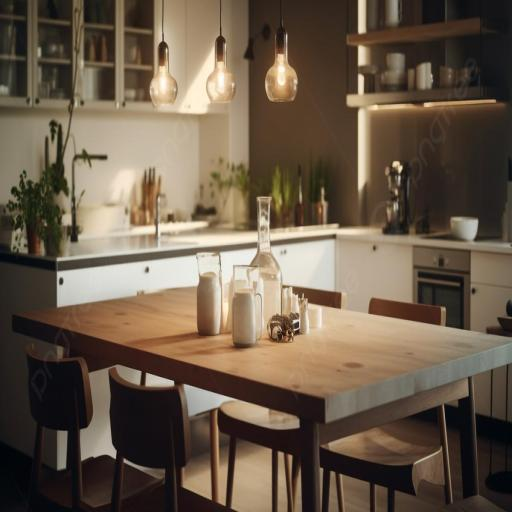table: (2, 267, 510, 510)
